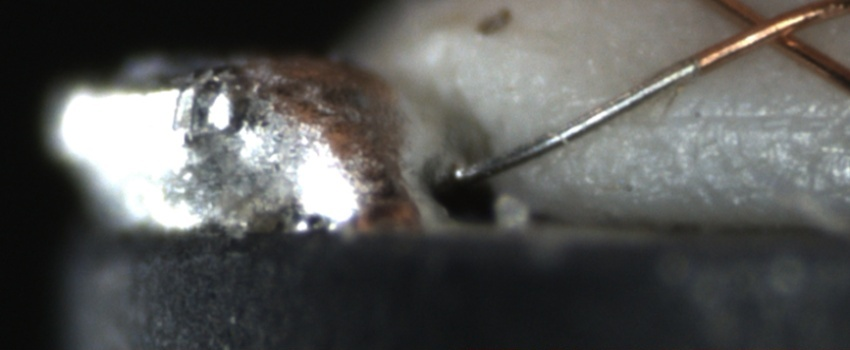CL: (719, 1, 819, 57)
DL: (625, 90, 850, 154)
TS: (449, 56, 699, 184)
